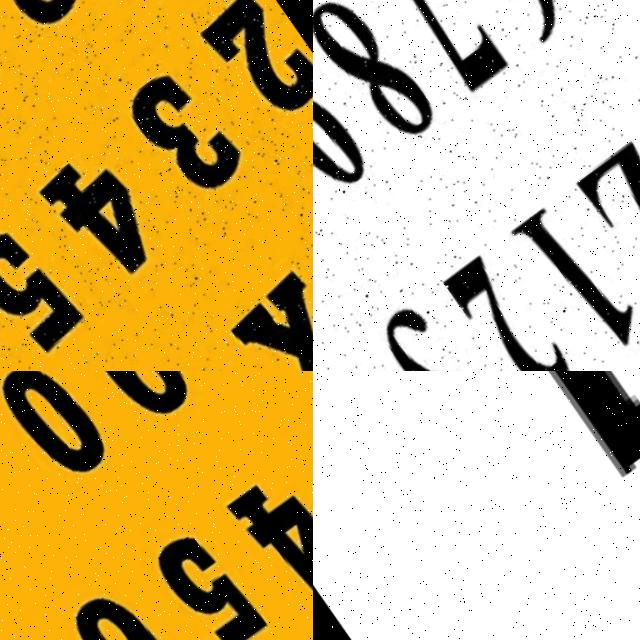0: (0, 371, 141, 512), (313, 56, 357, 294)
1: (486, 173, 640, 371)
2: (423, 224, 617, 371), (178, 0, 313, 140)
3: (105, 50, 267, 218), (356, 273, 557, 371)
4: (14, 113, 212, 316), (210, 443, 313, 628)
5: (131, 504, 300, 640), (0, 194, 123, 371)
6: (406, 0, 615, 79), (40, 559, 226, 640)
7: (337, 0, 551, 131)
8: (313, 0, 482, 183), (0, 0, 113, 58)
9: (313, 14, 420, 234), (49, 371, 223, 448)
I: (357, 371, 640, 640)
